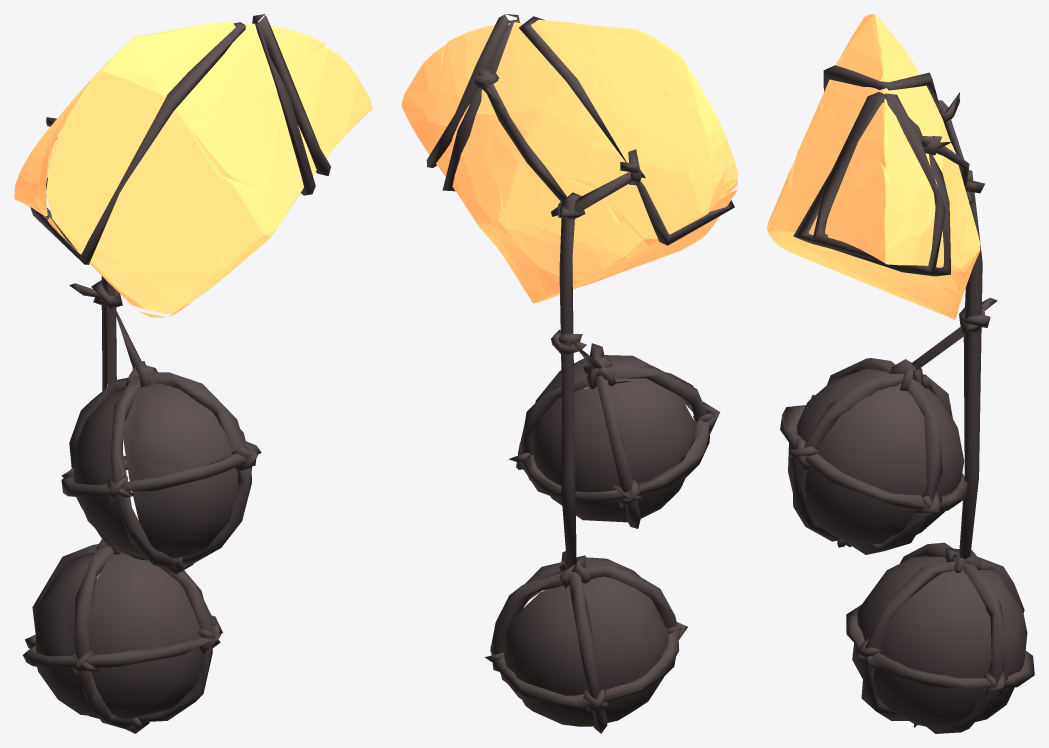
Rendered from lb_lantern_hell.glb.
3 renders of one model, left to right at view 1: azimuth 30°, elevation 25°; view 2: azimuth 150°, elevation 25°; view 3: azimuth 270°, elevation 25°, orthographic. The views are drawn at different scales.
Parts seen in each view (by area): view 1: geometry_1, geometry_0; view 2: geometry_1, geometry_0; view 3: geometry_1, geometry_0.
Part boxes in pixels (x1,y1,x2,y2): geometry_1: (22, 14, 330, 733); geometry_0: (14, 21, 372, 317); geometry_1: (426, 14, 734, 733); geometry_0: (401, 19, 737, 303); geometry_1: (780, 65, 1034, 733); geometry_0: (767, 14, 980, 319).
Bounding box in the file's own units: 1.7 × 3.41 × 1.18.
